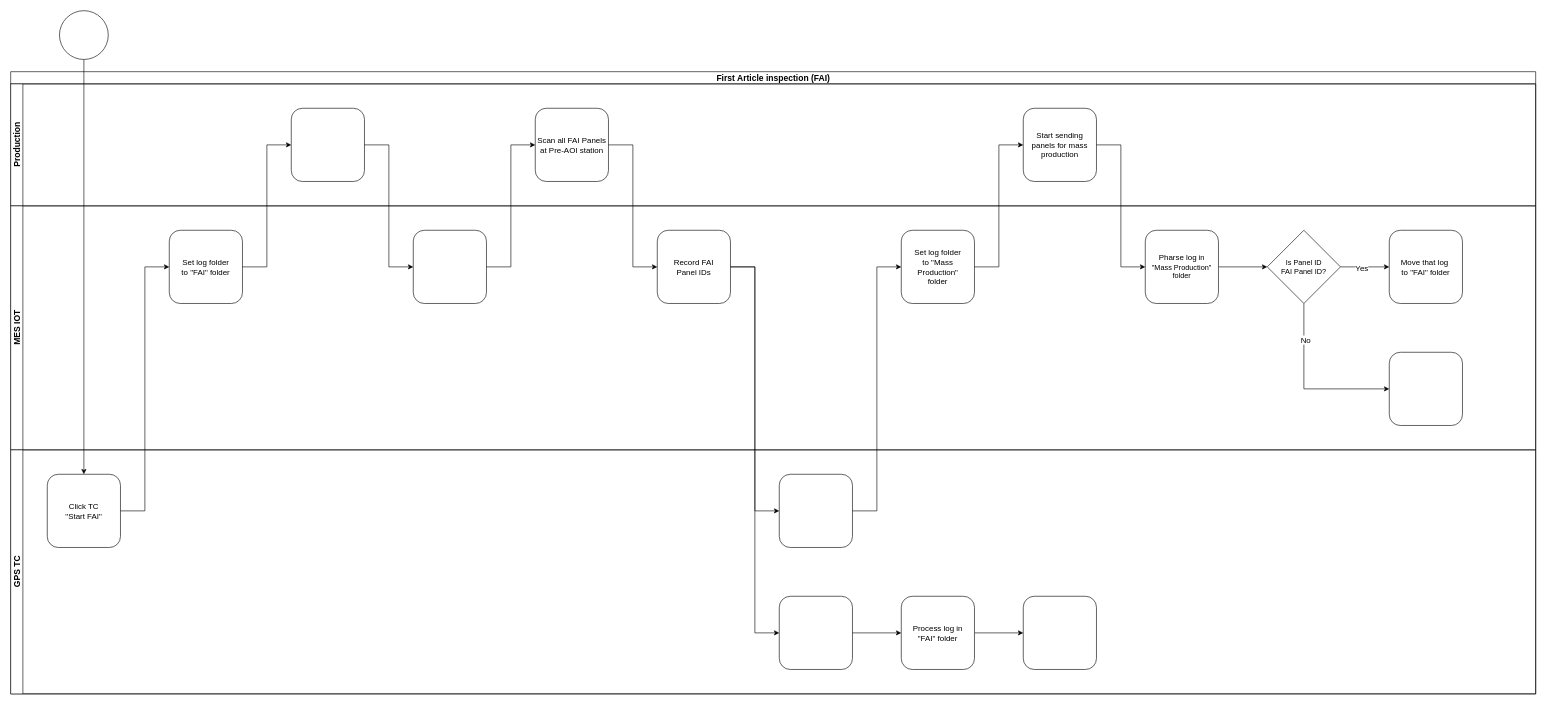
This 1546x705 diagram has some shape labels left out. The shapes that lost their labels are listed below. From the top down, each one's centre as x and y in pixels, then its label:
the point at 83,34: Start
the point at 327,144: Start sending panels for First Article Inspections
the point at 449,266: Collect log and put in "FAI" folder
the point at 1425,388: Track in/out that panel as Normal
the point at 815,510: Click TC "Verify" (To start mass production)
the point at 815,632: Click TC "End FAI" When FAI is finished
the point at 1059,632: Find the last record of each FAI panel to Track in/out
